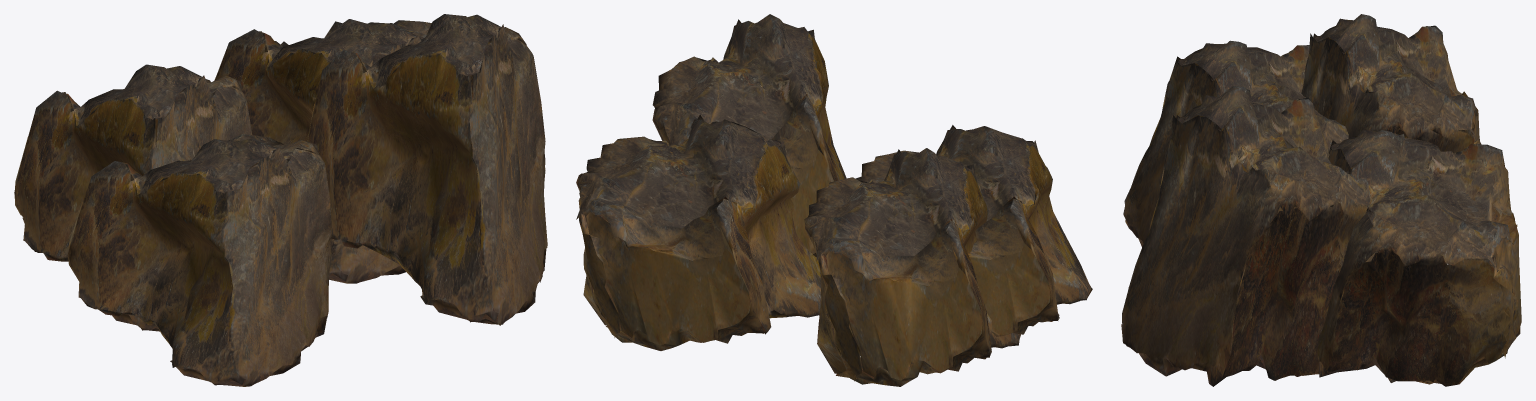
The model's file is cliff-2-lod.obj.
3 views of the same model, side by side, from view 1: azimuth 30°, elevation 25°; view 2: azimuth 150°, elevation 25°; view 3: azimuth 270°, elevation 25° (orthographic). The views are drawn at different scales.
Parts seen in each view (by area): view 1: cliff-2.001; view 2: cliff-2.001; view 3: cliff-2.001.
Boxes of the visible parts, x1=… form: cliff-2.001: x1=14, y1=14, x2=547, y2=386; cliff-2.001: x1=576, y1=14, x2=1092, y2=386; cliff-2.001: x1=1121, y1=14, x2=1521, y2=386.
Size of the model in its own units: 7.62 by 4.38 by 5.94.
Materials: 1 (1 with a texture image).
